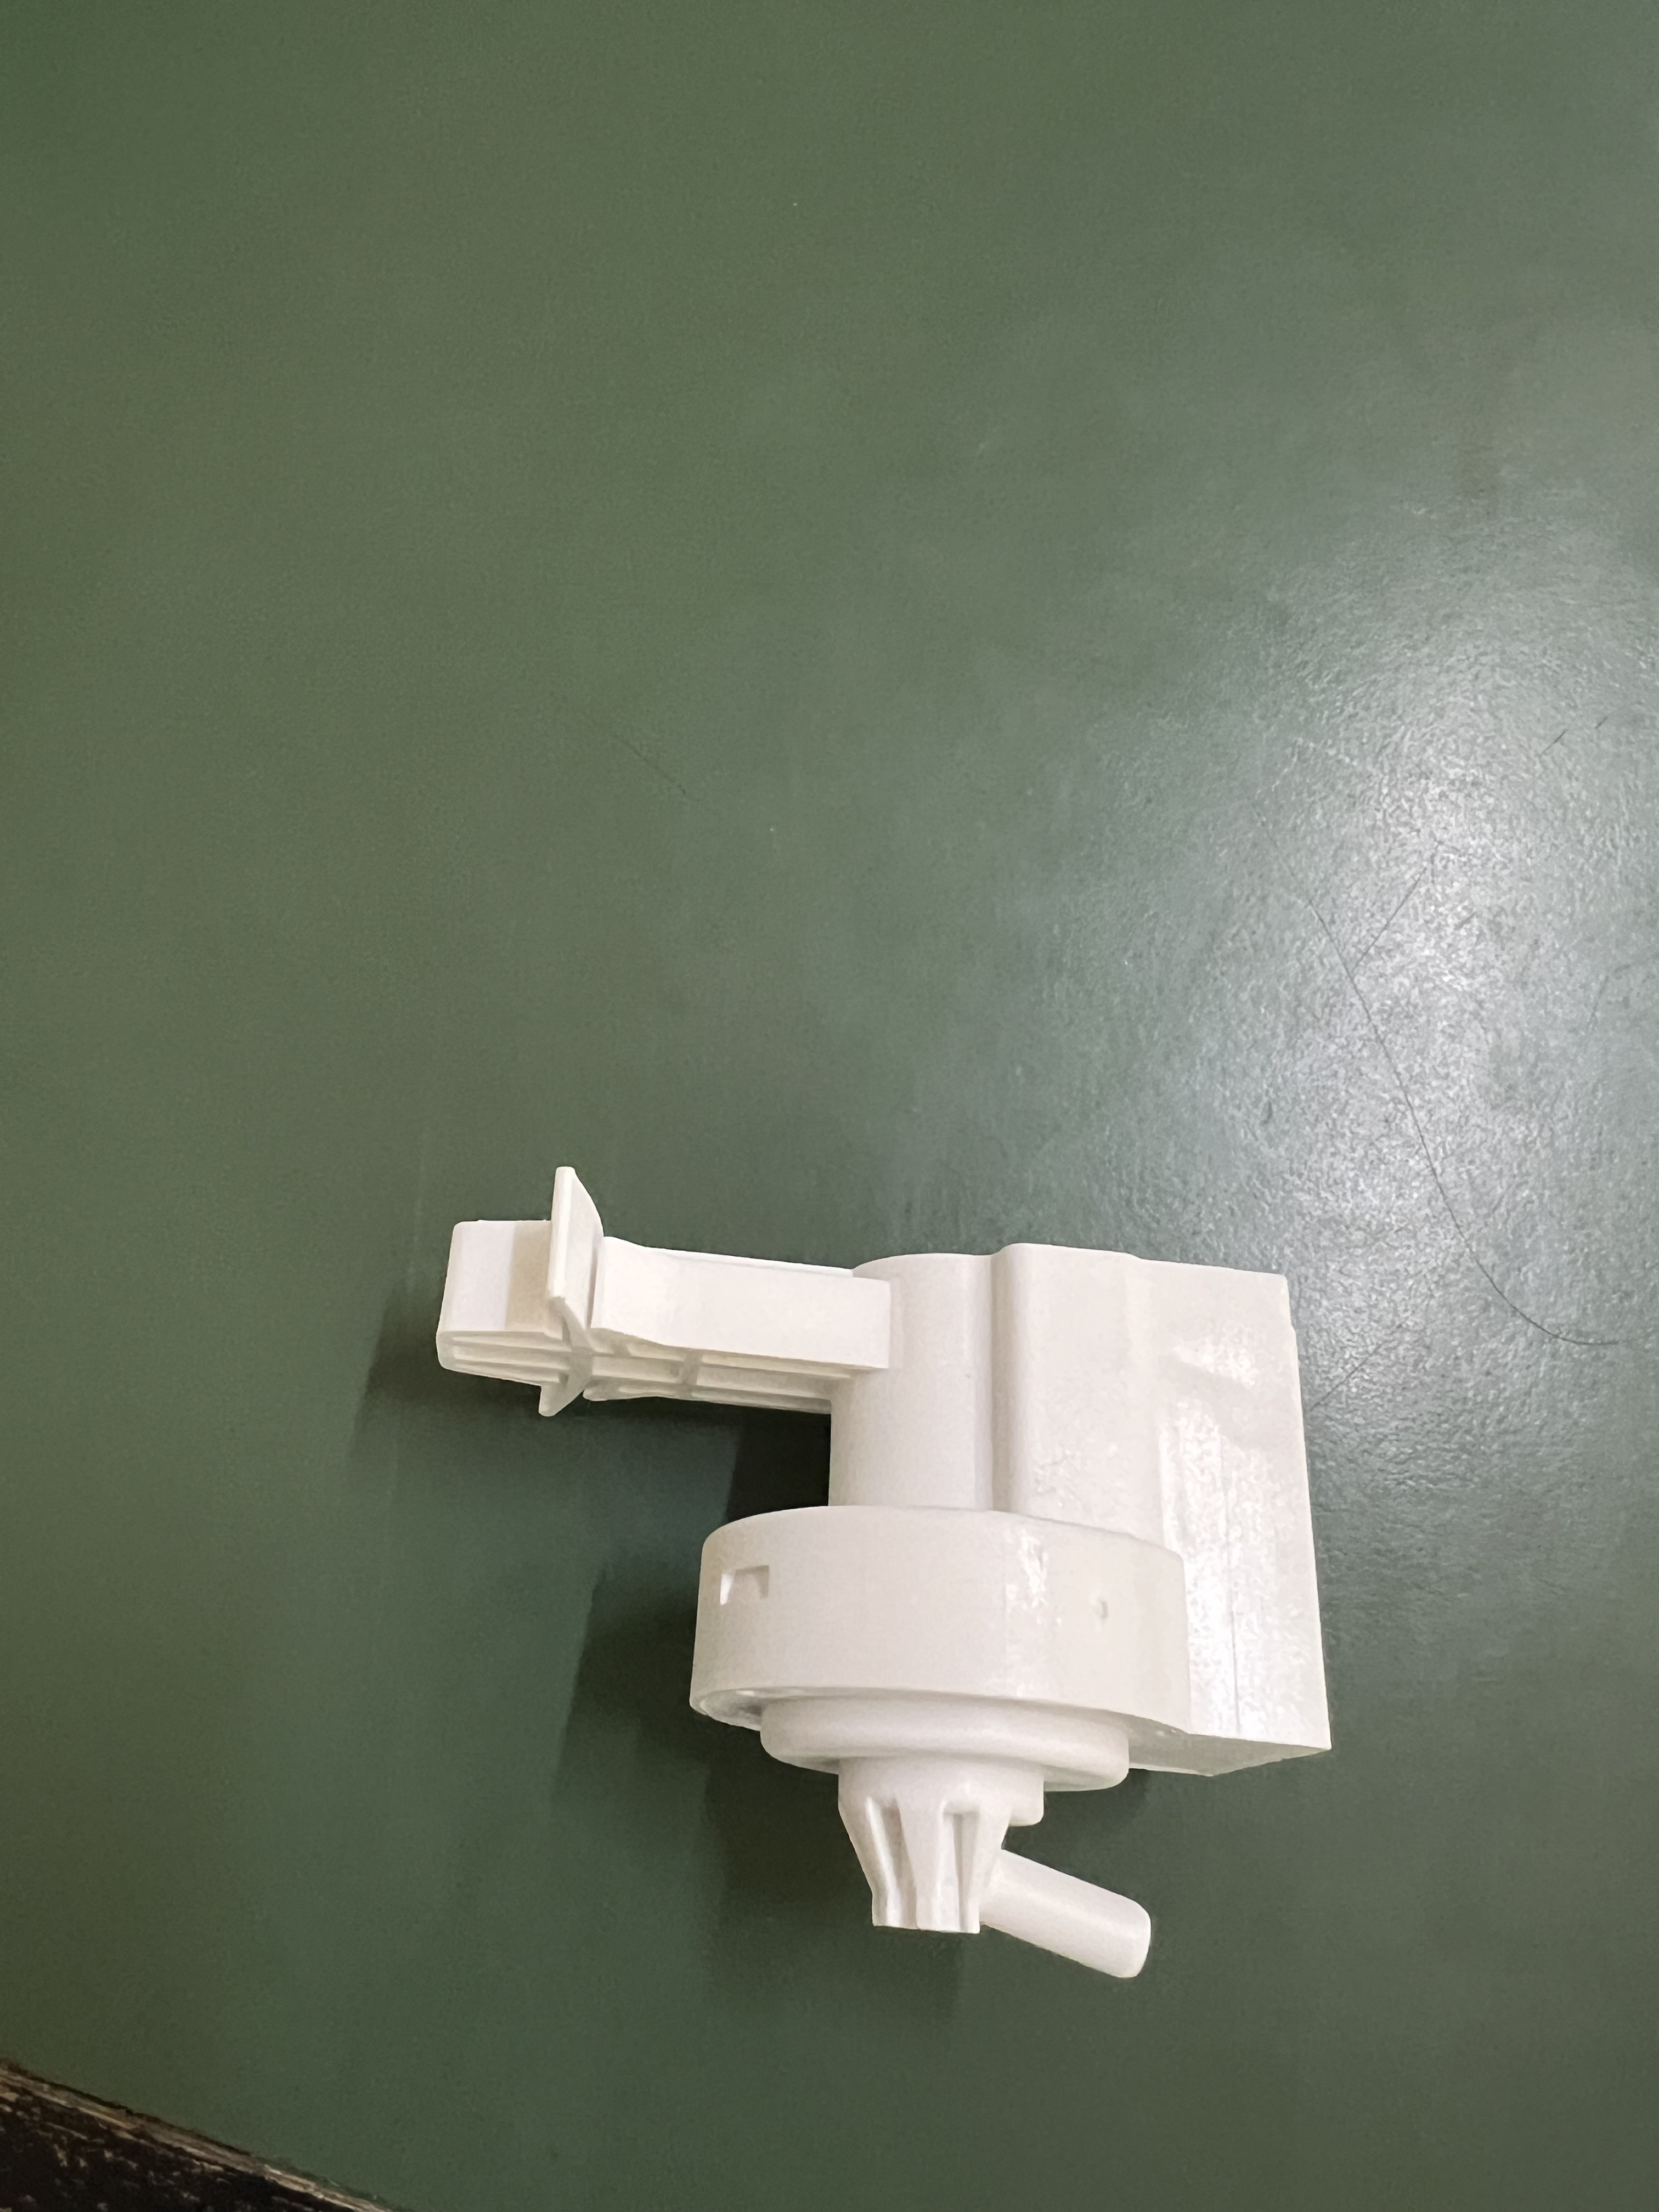pressure_switch_1: (362, 1148, 1370, 2033)
